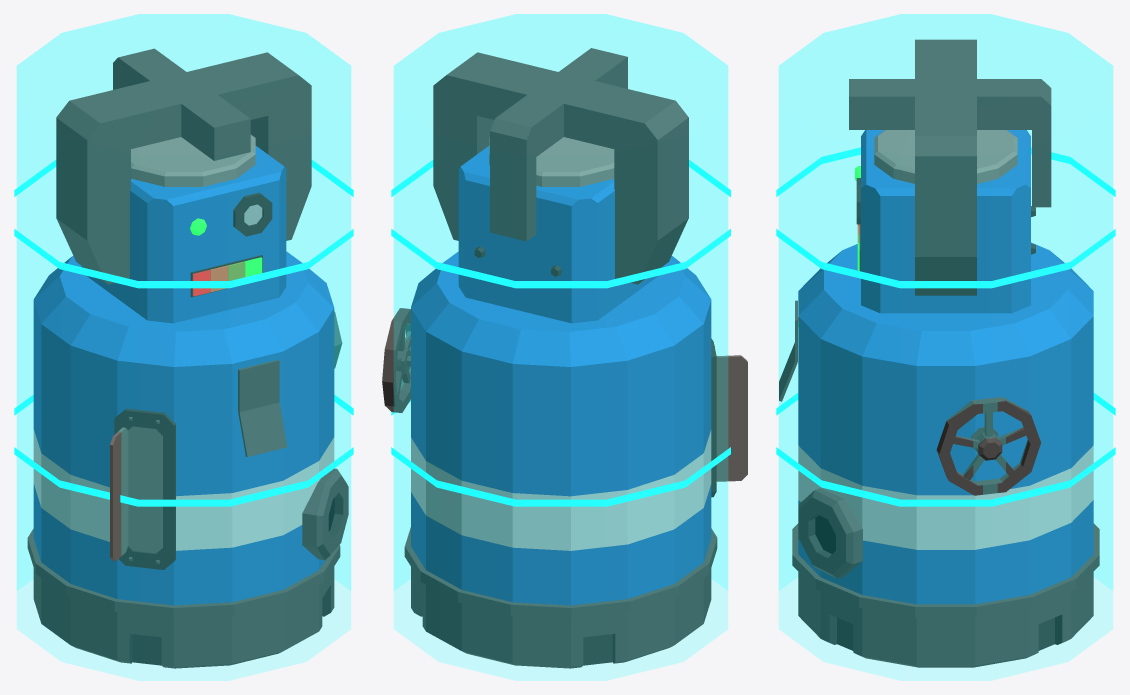
File: canister_stripe.glb
3 renders of one model, left to right at view 1: azimuth 30°, elevation 25°; view 2: azimuth 150°, elevation 25°; view 3: azimuth 270°, elevation 25°, orthographic.
Visible parts, largest first — view 1: Canister_Shield, Canister_Body, Canister_ShieldBands, Canister_TankDoor, Canister_TankDoorOpen, Canister_CellHatchOpen, Canister_CellHatch; view 2: Canister_Shield, Canister_Body, Canister_ShieldBands, Canister_TankDoorOpen, Canister_ValveWheel; view 3: Canister_Shield, Canister_Body, Canister_ShieldBands, Canister_ValveWheel.
Part boxes in pixels (x1=…): Canister_Shield: x1=17, y1=14, x2=350, y2=680; Canister_Body: x1=27, y1=48, x2=348, y2=668; Canister_ShieldBands: x1=14, y1=160, x2=353, y2=506; Canister_TankDoor: x1=128, y1=426, x2=162, y2=553; Canister_TankDoorOpen: x1=110, y1=427, x2=128, y2=561; Canister_CellHatchOpen: x1=238, y1=402, x2=287, y2=456; Canister_CellHatch: x1=238, y1=360, x2=279, y2=412; Canister_Shield: x1=394, y1=14, x2=727, y2=680; Canister_Body: x1=404, y1=48, x2=717, y2=668; Canister_ShieldBands: x1=391, y1=160, x2=730, y2=506; Canister_TankDoorOpen: x1=716, y1=355, x2=747, y2=481; Canister_ValveWheel: x1=382, y1=308, x2=410, y2=412; Canister_Shield: x1=779, y1=14, x2=1112, y2=680; Canister_Body: x1=792, y1=39, x2=1099, y2=667; Canister_ShieldBands: x1=776, y1=147, x2=1115, y2=506; Canister_ValveWheel: x1=936, y1=397, x2=1040, y2=495.
Bounding box in the file's own units: 0.5166 × 0.8887 × 0.5028.
